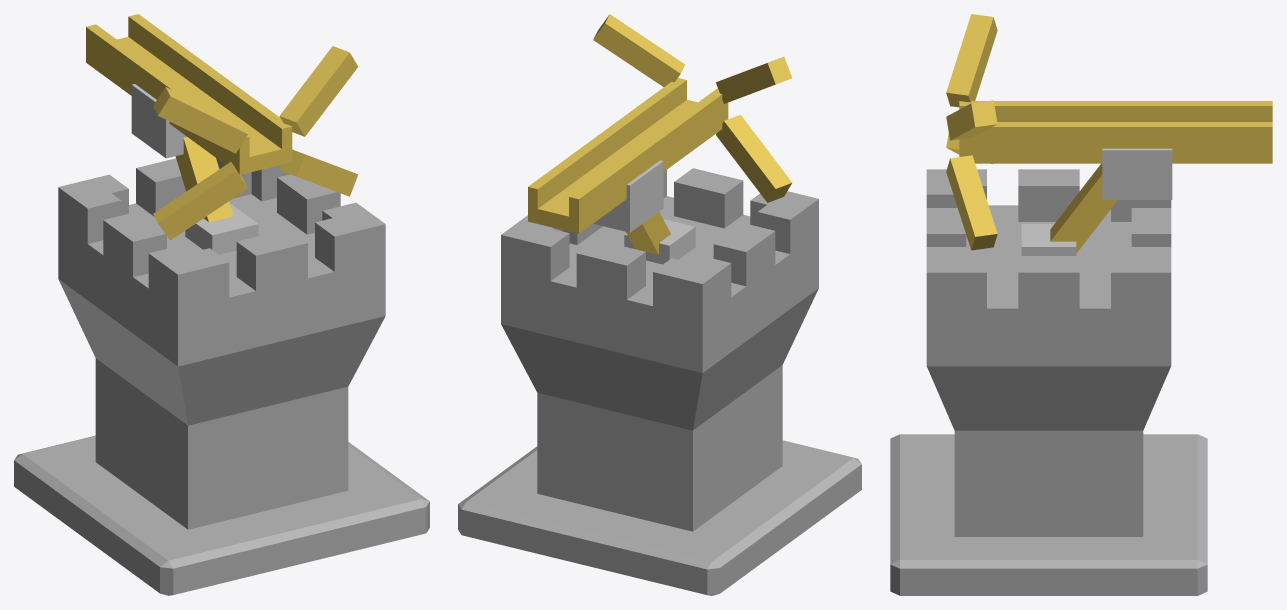
Rendered from big_turet.fbx.
The picture shows the model from 3 angles, left to right: view 1: azimuth 30°, elevation 25°; view 2: azimuth 150°, elevation 25°; view 3: azimuth 270°, elevation 25°; orthographic projection. The views are drawn at different scales.
Visible parts, largest first — view 1: Cube.014, Cube, Cube.013, Cube.012, Cube.005, Cube.016, Cube.010, Cube.008, Cube.009, Cube.003, Cube.011; view 2: Cube.014, Cube, Cube.013, Cube.012, Cube.016, Cube.005, Cube.008, Cube.010, Cube.009, Cube.011; view 3: Cube.014, Cube, Cube.013, Cube.012, Cube.008, Cube.003, Cube.010, Cube.011, Cube.005, Cube.009.
Boxes of the visible parts, box(x1,y1,x2,y2) form: Cube.014: box(58, 194, 385, 529); Cube: box(14, 435, 429, 595); Cube.013: box(58, 158, 385, 309); Cube.012: box(86, 14, 292, 174); Cube.005: box(279, 46, 357, 136); Cube.016: box(153, 162, 247, 240); Cube.010: box(153, 87, 247, 153); Cube.008: box(131, 84, 186, 158); Cube.009: box(185, 204, 258, 254); Cube.003: box(279, 149, 358, 196); Cube.011: box(175, 137, 233, 222); Cube.014: box(501, 196, 818, 531); Cube: box(458, 440, 861, 595); Cube.013: box(501, 168, 818, 318); Cube.012: box(528, 78, 728, 233); Cube.016: box(716, 114, 792, 202); Cube.005: box(593, 14, 685, 86); Cube.008: box(593, 160, 663, 232); Cube.010: box(716, 56, 791, 103); Cube.009: box(624, 219, 695, 264); Cube.011: box(626, 212, 670, 254); Cube.014: box(926, 205, 1171, 536); Cube: box(890, 434, 1207, 595); Cube.013: box(926, 169, 1171, 308); Cube.012: box(959, 101, 1272, 163); Cube.008: box(1102, 148, 1172, 199); Cube.003: box(946, 155, 997, 250); Cube.010: box(946, 14, 997, 107); Cube.011: box(1050, 163, 1117, 253); Cube.005: box(946, 100, 997, 140); Cube.009: box(1021, 224, 1076, 255).
Bounding box in the file's own units: 400 × 659 × 482.
